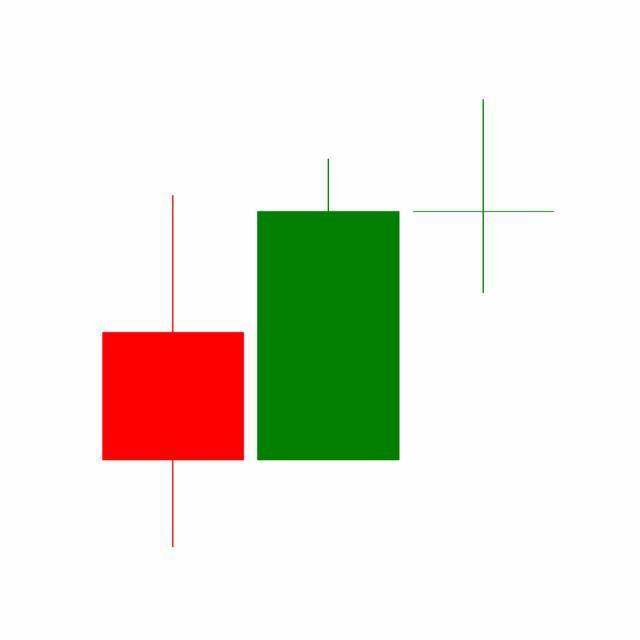Spinning Top: (406, 97, 562, 296)
